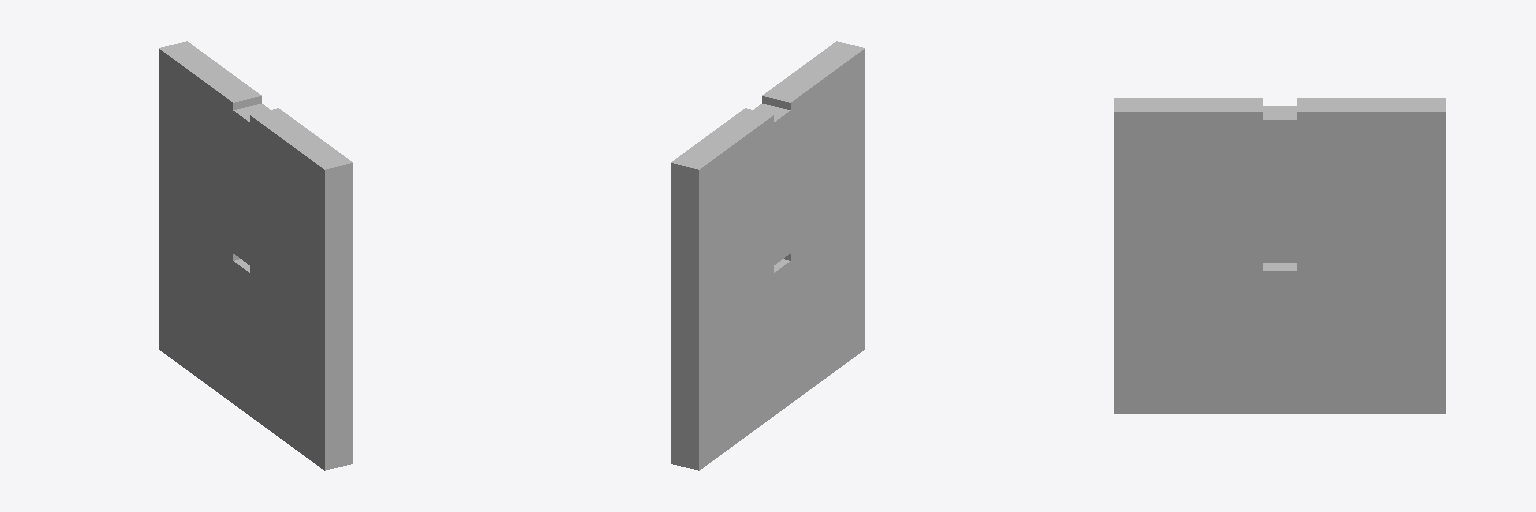
The model's file is wall.obj.
3 renders of one model, left to right at view 1: azimuth 30°, elevation 25°; view 2: azimuth 150°, elevation 25°; view 3: azimuth 270°, elevation 25°, orthographic.
Bounding box in the file's own units: 4 × 40 × 40.